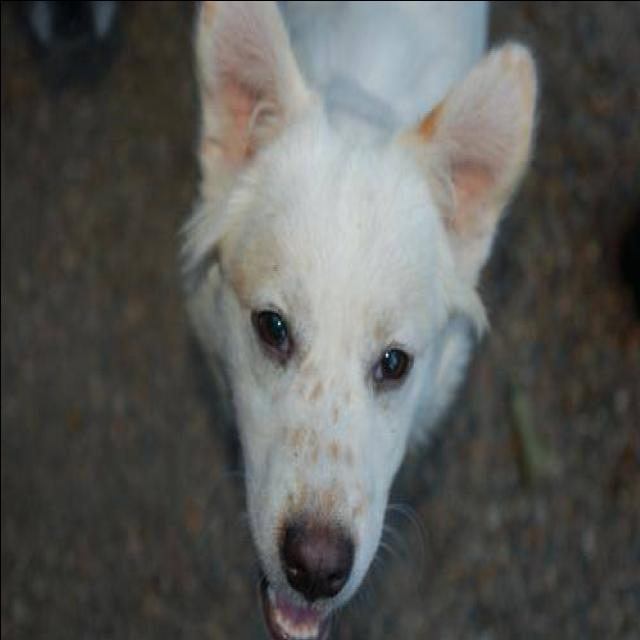dog: (145, 0, 554, 640)
